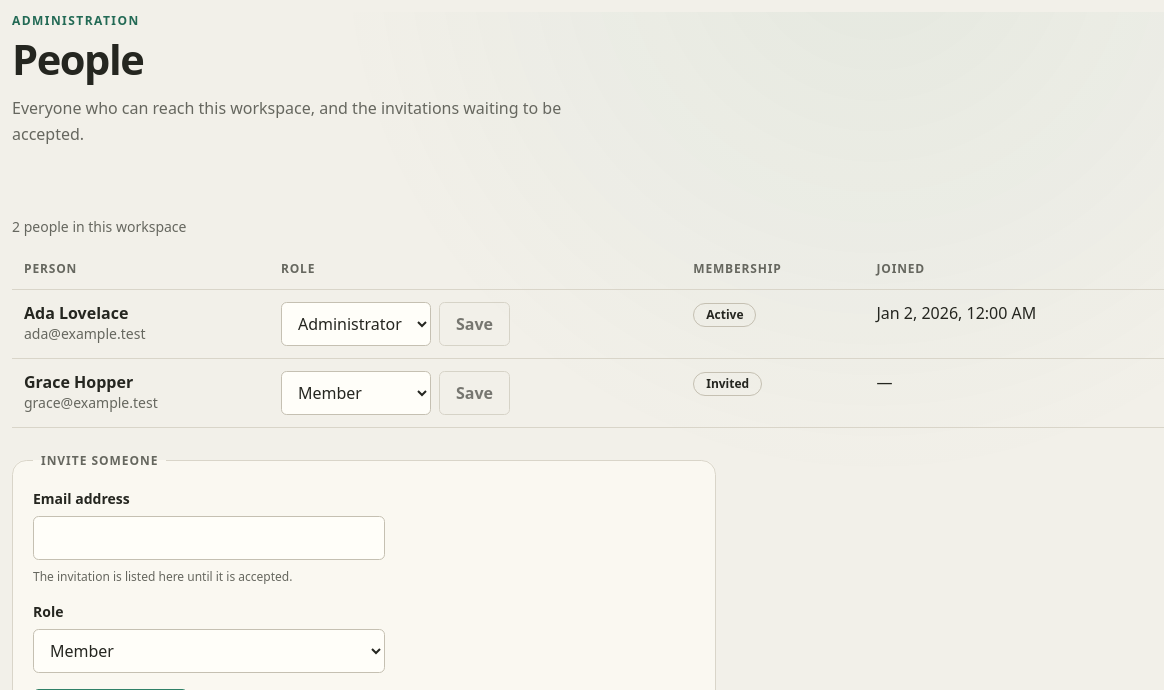
Scenario: administration: people › reads 409 as a rule the workspace enforces
Select "Viewer" in the dropdown named "Role for Grace Hopper" at [356, 393], box 281,371 -> 431,415
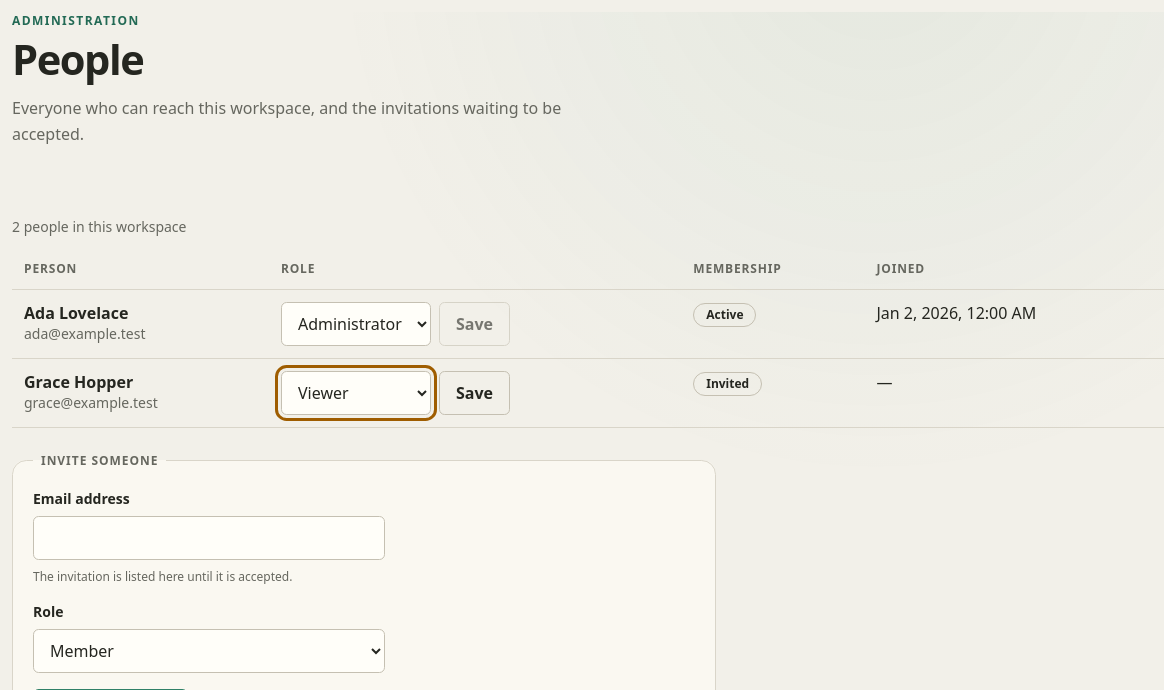
Click the button with aria-label "Save role for Grace Hopper".
click(474, 393)  # box 439,371 -> 510,415
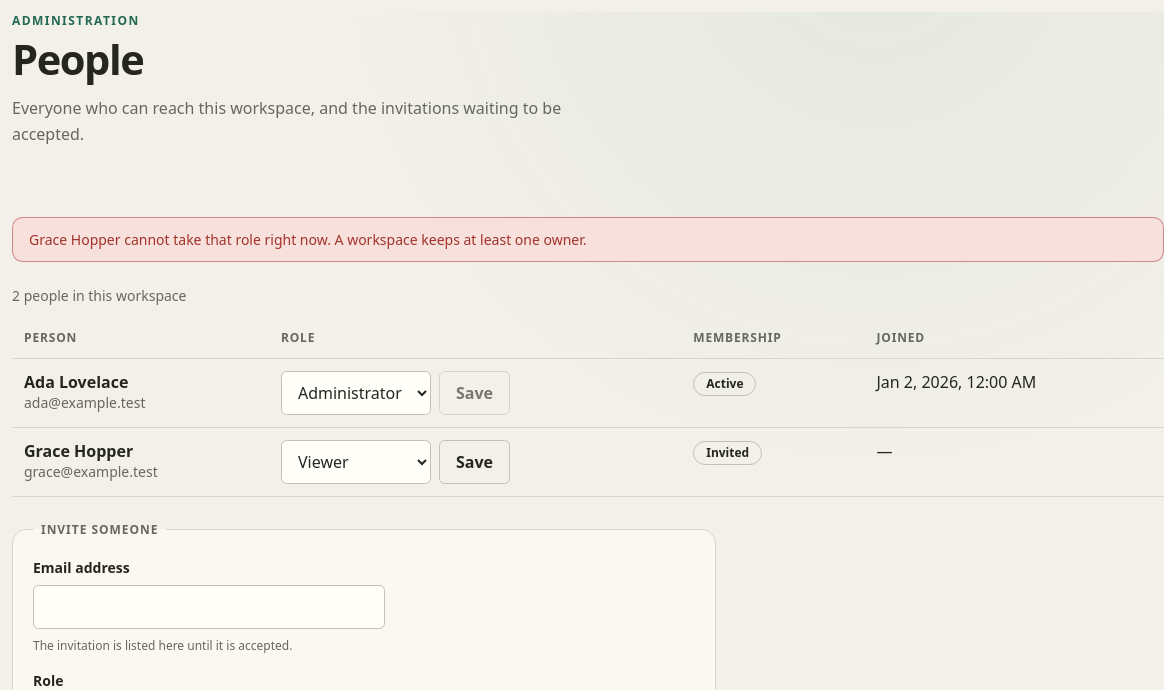
Expected: the 2nd message shows "at least one owner", 29,230 -> 586,249
